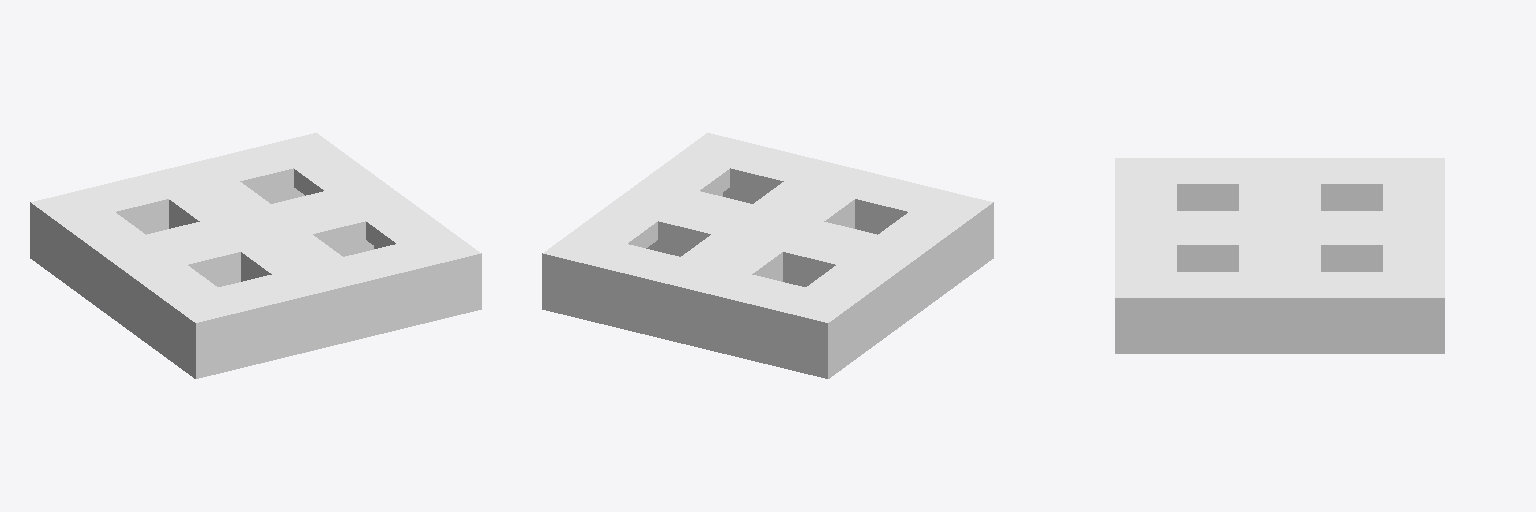
The model's file is luke.obj.
The picture shows the model from 3 angles: view 1: azimuth 30°, elevation 25°; view 2: azimuth 150°, elevation 25°; view 3: azimuth 270°, elevation 25°; orthographic projection.
Parts seen in each view (by area): view 1: object 1; view 2: object 1; view 3: object 1.
Part boxes in pixels (x1,y1,x2,y2): object 1: (30, 133, 481, 378); object 1: (542, 133, 993, 378); object 1: (1115, 158, 1444, 353).
Bounding box in the file's own units: 1.6 × 0.3 × 1.6.